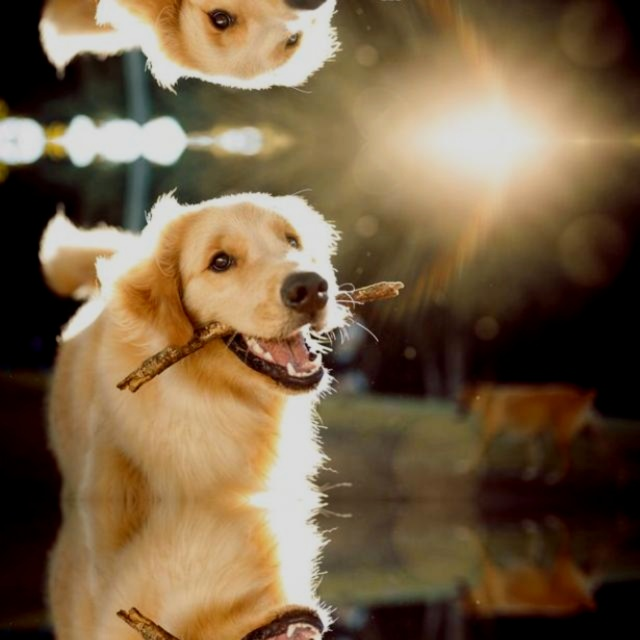dog: (149, 170, 375, 393), (149, 0, 375, 110), (149, 605, 375, 640)
